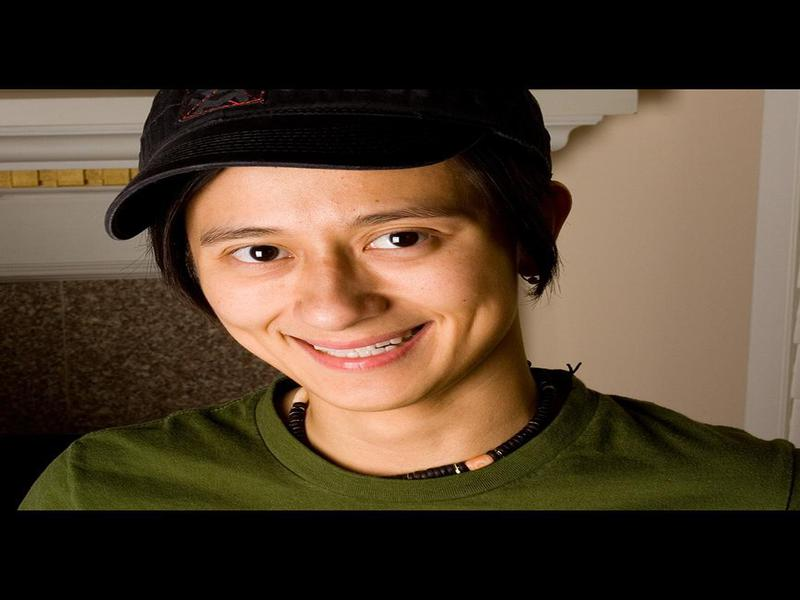person: (19, 86, 797, 510)
